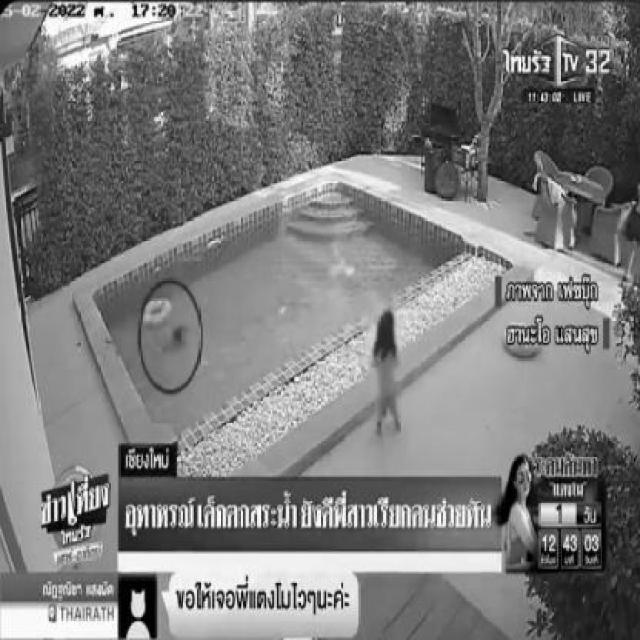drowning: (154, 328, 192, 366)
